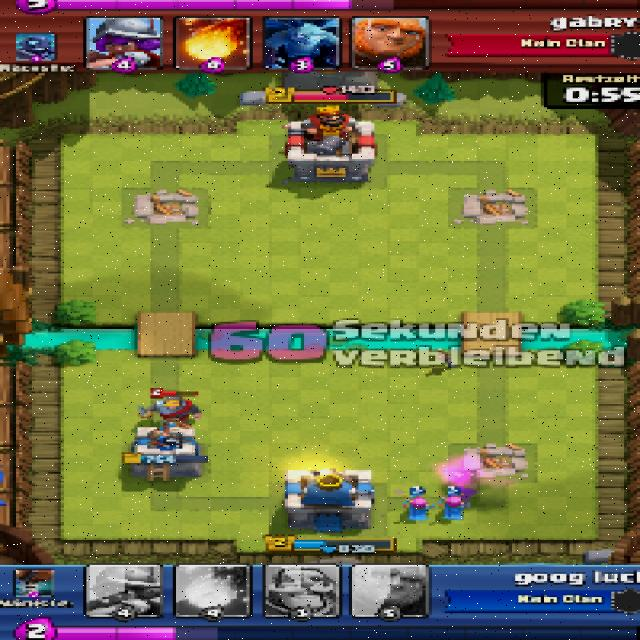Enemy-Knight: (134, 392, 204, 426)
Player-Archer: (439, 492, 468, 522), (401, 494, 432, 520)
